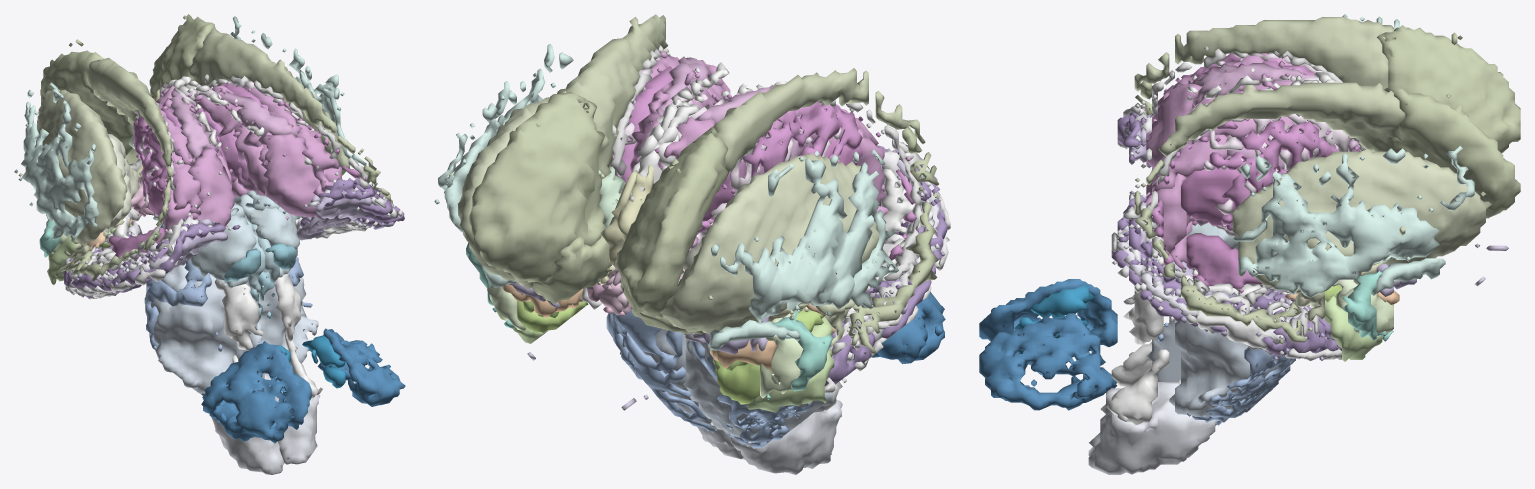
Rendered from nextbrain.glb.
3 views of the same model, side by side, from view 1: azimuth 30°, elevation 25°; view 2: azimuth 150°, elevation 25°; view 3: azimuth 270°, elevation 25° (orthographic). The views are drawn at different scales.
Visible parts, largest first — view 1: nextbrain:left:721, nextbrain:left:580, nextbrain:left:102, nextbrain:left:79, nextbrain:right:10118, nextbrain:left:118, nextbrain:right:10508, nextbrain:right:10721, nextbrain:left:48, nextbrain:left:384, nextbrain:right:10048, nextbrain:left:508 (+47 smaller); view 2: nextbrain:right:10048, nextbrain:left:102, nextbrain:left:79, nextbrain:left:48, nextbrain:left:118, nextbrain:right:10118, nextbrain:left:254, nextbrain:right:10414, nextbrain:right:10102, nextbrain:left:393, nextbrain:left:662, nextbrain:left:580 (+35 smaller); view 3: nextbrain:right:10102, nextbrain:right:10079, nextbrain:right:10118, nextbrain:left:118, nextbrain:left:48, nextbrain:right:10721, nextbrain:right:10048, nextbrain:right:10662, nextbrain:right:10254, nextbrain:right:10580, nextbrain:right:10354, nextbrain:left:721 (+27 smaller).
Boxes of the visible parts, left/top/right/bottom form: nextbrain:left:721: left=201, top=341, right=311, bottom=443; nextbrain:left:580: left=150, top=260, right=264, bottom=394; nextbrain:left:102: left=14, top=82, right=99, bottom=240; nextbrain:left:79: left=18, top=89, right=127, bottom=244; nextbrain:right:10118: left=188, top=27, right=376, bottom=171; nextbrain:left:118: left=87, top=58, right=173, bottom=223; nextbrain:right:10508: left=260, top=133, right=321, bottom=217; nextbrain:right:10721: left=317, top=328, right=405, bottom=406; nextbrain:left:48: left=40, top=39, right=133, bottom=156; nextbrain:left:384: left=189, top=202, right=256, bottom=289; nextbrain:right:10048: left=149, top=14, right=215, bottom=98; nextbrain:left:508: left=188, top=147, right=234, bottom=231; nextbrain:right:10048: left=469, top=92, right=606, bottom=282; nextbrain:left:102: left=708, top=149, right=898, bottom=350; nextbrain:left:79: left=660, top=153, right=882, bottom=333; nextbrain:left:48: left=615, top=126, right=728, bottom=317; nextbrain:left:118: left=713, top=68, right=925, bottom=183; nextbrain:right:10118: left=557, top=14, right=668, bottom=179; nextbrain:left:254: left=697, top=101, right=916, bottom=260; nextbrain:right:10414: left=606, top=310, right=715, bottom=432; nextbrain:right:10102: left=434, top=44, right=573, bottom=287; nextbrain:left:393: left=848, top=126, right=938, bottom=354; nextbrain:left:662: left=731, top=400, right=842, bottom=474; nextbrain:left:580: left=683, top=334, right=834, bottom=446; nextbrain:right:10102: left=1233, top=146, right=1474, bottom=297; nextbrain:right:10079: left=1232, top=149, right=1491, bottom=293; nextbrain:right:10118: left=1134, top=82, right=1405, bottom=215; nextbrain:left:118: left=1134, top=17, right=1393, bottom=91; nextbrain:left:48: left=1377, top=25, right=1520, bottom=153; nextbrain:right:10721: left=979, top=313, right=1117, bottom=410; nextbrain:right:10048: left=1384, top=85, right=1520, bottom=218; nextbrain:right:10662: left=1088, top=380, right=1218, bottom=474; nextbrain:right:10254: left=1152, top=119, right=1358, bottom=293; nextbrain:right:10580: left=1169, top=320, right=1278, bottom=417; nextbrain:right:10354: left=1111, top=148, right=1341, bottom=361; nextbrain:left:721: left=979, top=279, right=1117, bottom=351.
Bounding box in the file's own units: 0.071 × 0.079 × 0.094.
